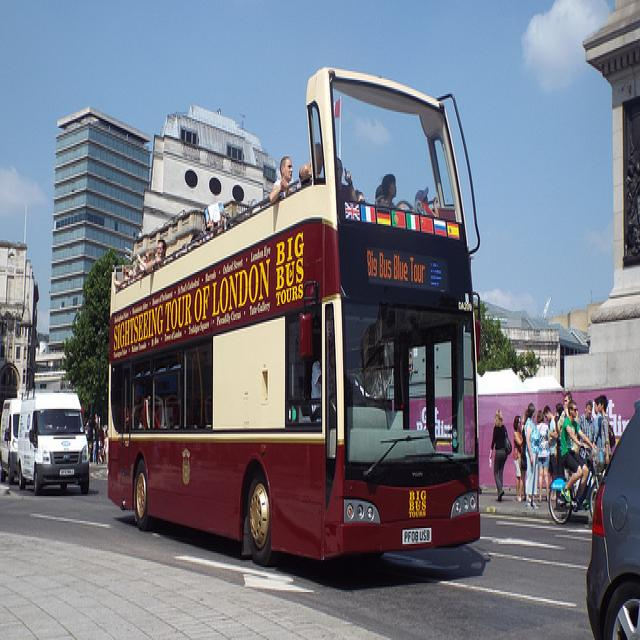motor: (549, 446, 604, 523)
